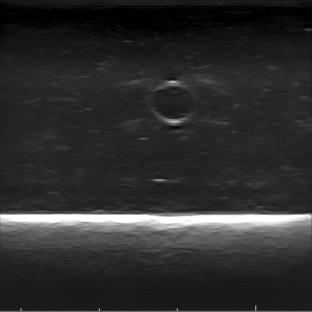vessel: (148, 79, 198, 125)
